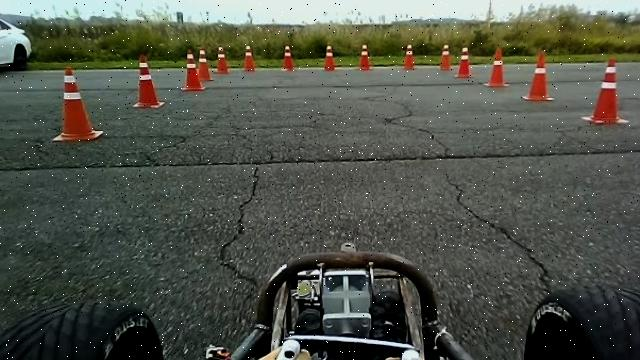red cone: (51, 66, 103, 142), (580, 57, 630, 124), (132, 54, 164, 109), (521, 50, 554, 101), (483, 47, 509, 87), (181, 49, 205, 91), (453, 46, 474, 78), (196, 49, 214, 81), (213, 46, 230, 73), (241, 45, 255, 71), (403, 44, 417, 69), (358, 44, 371, 70), (438, 44, 451, 70), (323, 45, 336, 70), (282, 45, 293, 70)
